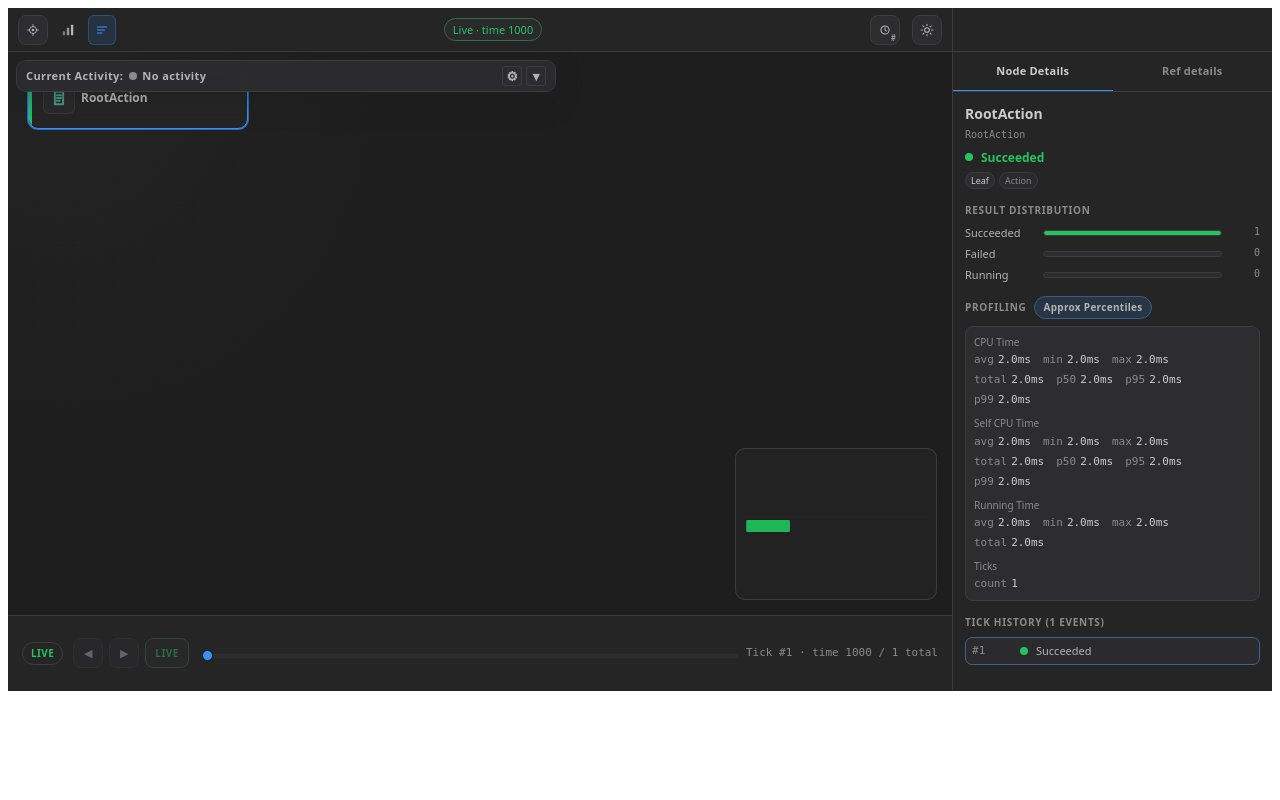
Test case: BehaviourTreeDebugger time-travel percentile mode › collapses and expands the floating current activity window
The image size is (1280, 800).
Expected: the text "No activity for this tick" is not shown
Click the button named "Expand current activity window". click: {"x": 536, "y": 76}
box: [526,66,546,86]
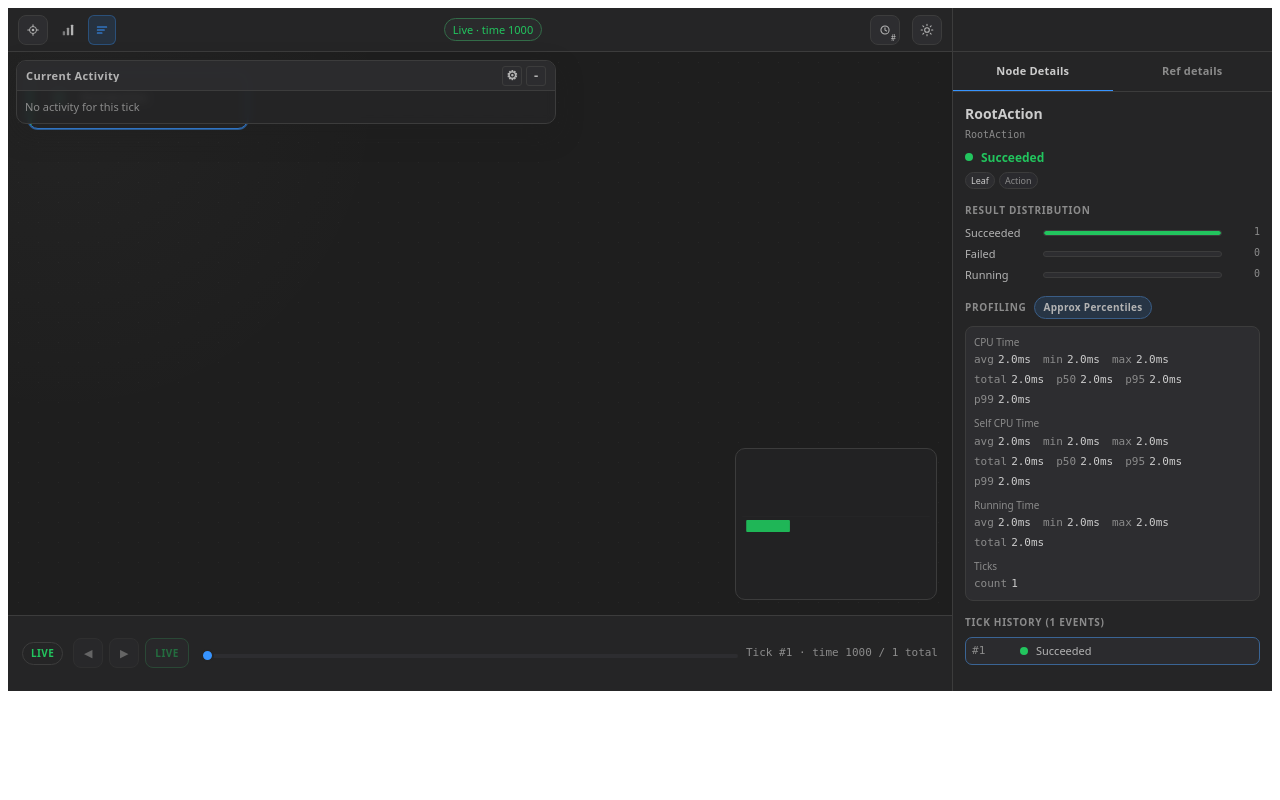
Result: the text "No activity for this tick" is shown at [25,99,140,114]
Click the button named "Collapse current activity window". click: {"x": 536, "y": 76}
box: [526,66,546,86]
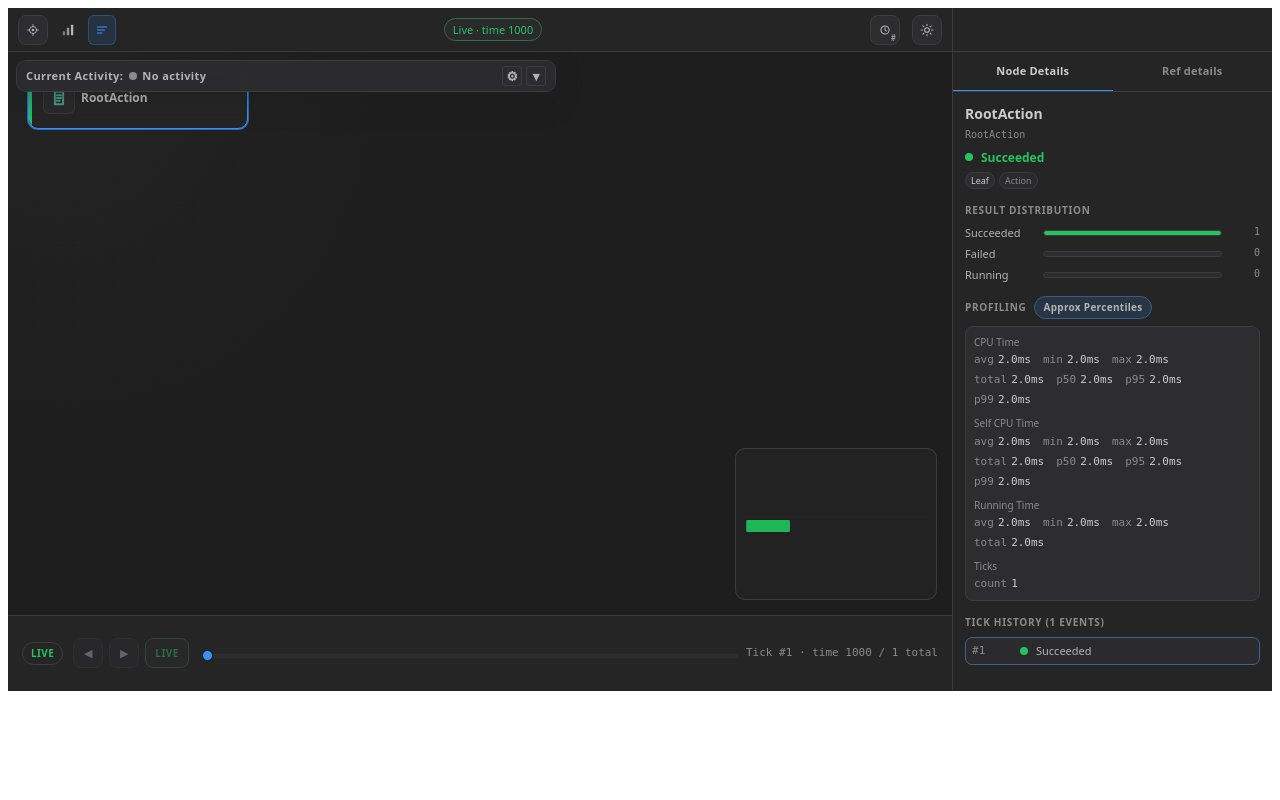
Result: the text "No activity for this tick" is gone
